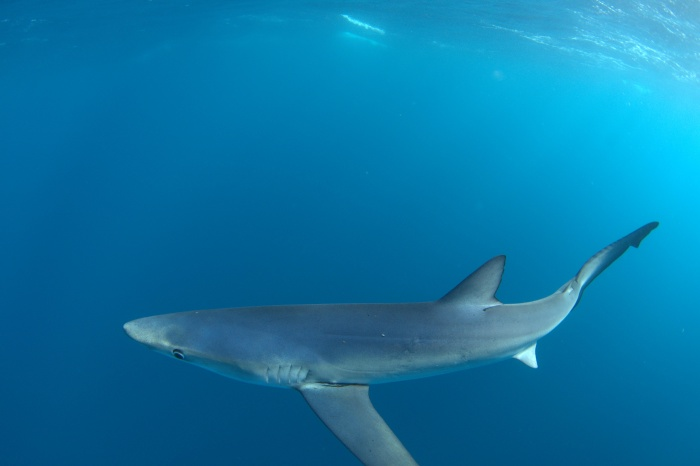Azul: (117, 198, 670, 466)
